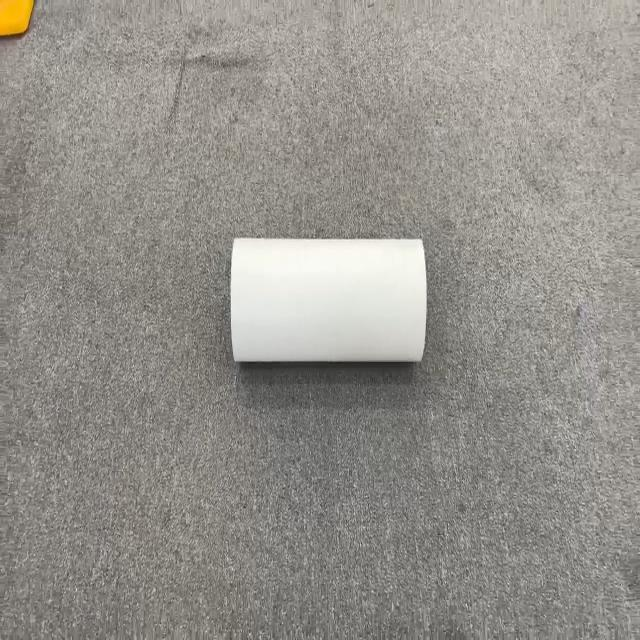coral: (229, 234, 427, 364)
